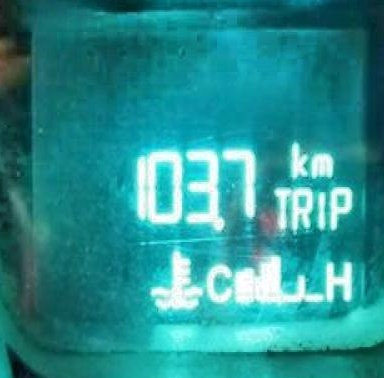-: (212, 215, 223, 230)
0: (146, 147, 182, 223)
1: (132, 148, 146, 220)
3: (183, 147, 218, 222)
7: (220, 145, 255, 216)
X: (323, 258, 352, 302), (203, 260, 232, 303), (328, 183, 352, 230), (291, 185, 312, 230), (272, 185, 291, 228), (288, 140, 307, 178), (309, 150, 333, 178), (314, 187, 325, 228)
